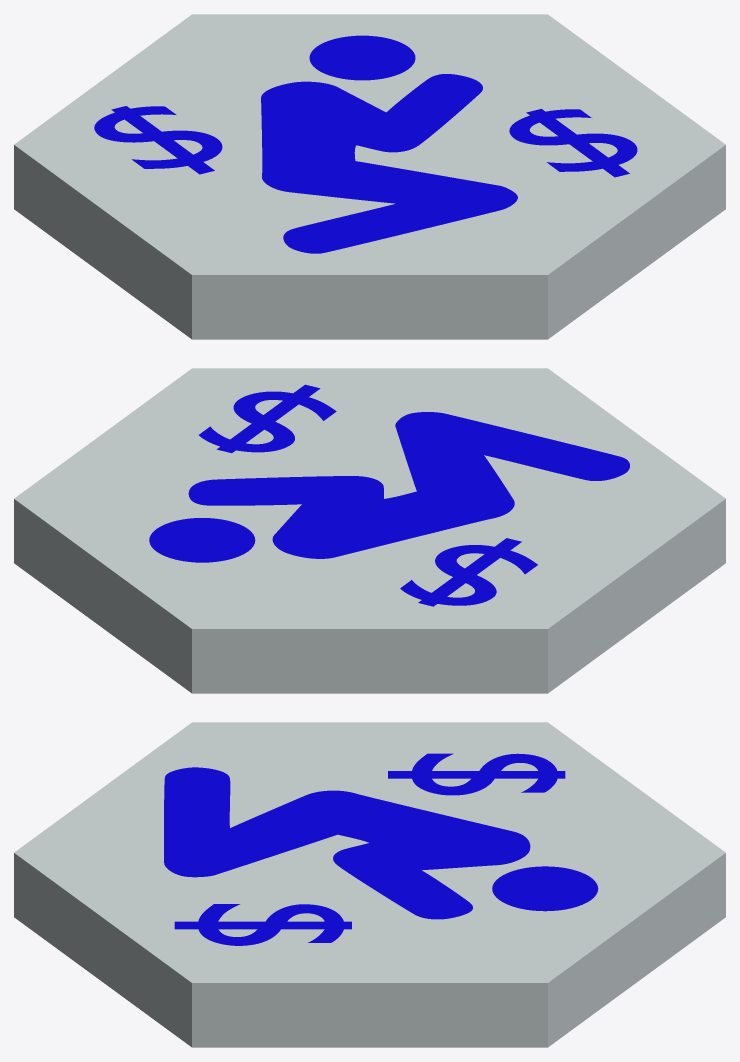
File: money-devotee.fbx
3 renders of one model, top to bottom at view 1: azimuth 30°, elevation 25°; view 2: azimuth 150°, elevation 25°; view 3: azimuth 270°, elevation 25°, orthographic.
Visible parts, largest first — view 1: Devotee.001|Cylinder.006|Dupli|1, Devotee.001|$.001|Dupli|; view 2: Devotee.001|Cylinder.006|Dupli|1, Devotee.001|$.001|Dupli|; view 3: Devotee.001|Cylinder.006|Dupli|1, Devotee.001|$.001|Dupli|.
Boxes of the visible parts, x1,y1,x2,y2 form: Devotee.001|Cylinder.006|Dupli|1: [14, 14, 725, 339]; Devotee.001|$.001|Dupli|: [94, 35, 637, 253]; Devotee.001|Cylinder.006|Dupli|1: [14, 368, 725, 693]; Devotee.001|$.001|Dupli|: [149, 384, 629, 606]; Devotee.001|Cylinder.006|Dupli|1: [14, 722, 725, 1047]; Devotee.001|$.001|Dupli|: [164, 753, 598, 945].
Size of the model in its own units: 173 by 20.94 by 200.
